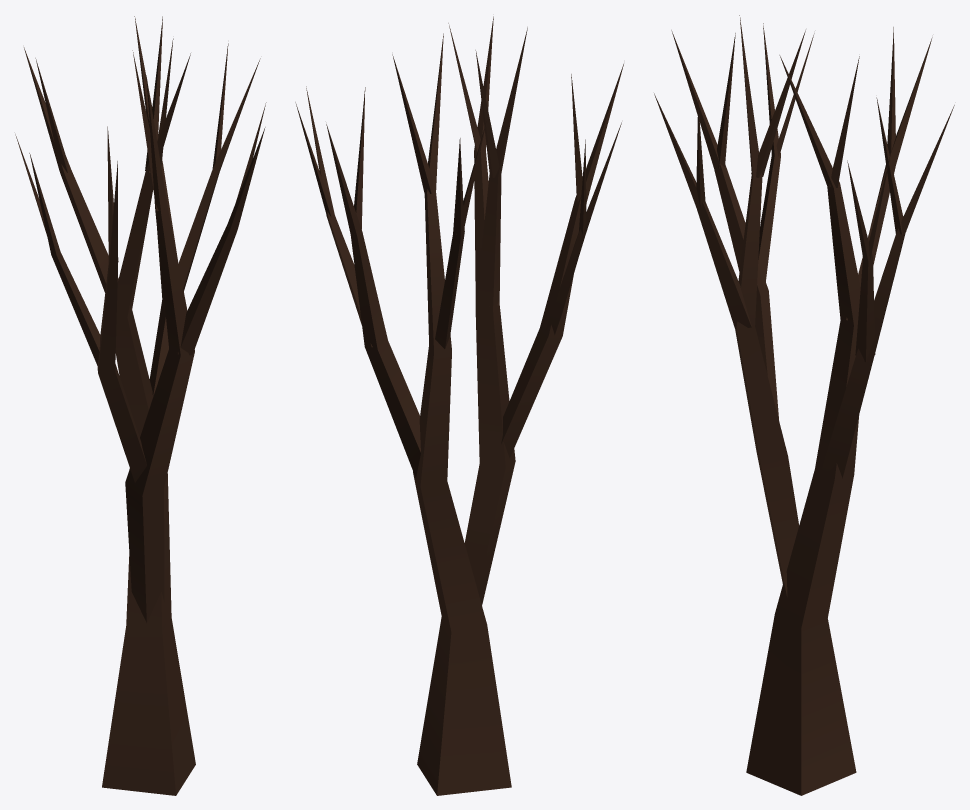
File: 3d-feliu-axel-arbre-sec.glb
The picture shows the model from 3 angles, left to right: view 1: azimuth 30°, elevation 25°; view 2: azimuth 150°, elevation 25°; view 3: azimuth 270°, elevation 25°; orthographic projection.
Visible parts, largest first — view 1: tree_sec; view 2: tree_sec; view 3: tree_sec.
Boxes of the visible parts, box(x1,y1,x2,y2) form: tree_sec: box(15, 16, 266, 795); tree_sec: box(295, 16, 623, 795); tree_sec: box(654, 15, 954, 795).
Size of the model in its own units: 1.28 by 3.27 by 1.21.
1 material, 1 textured.
